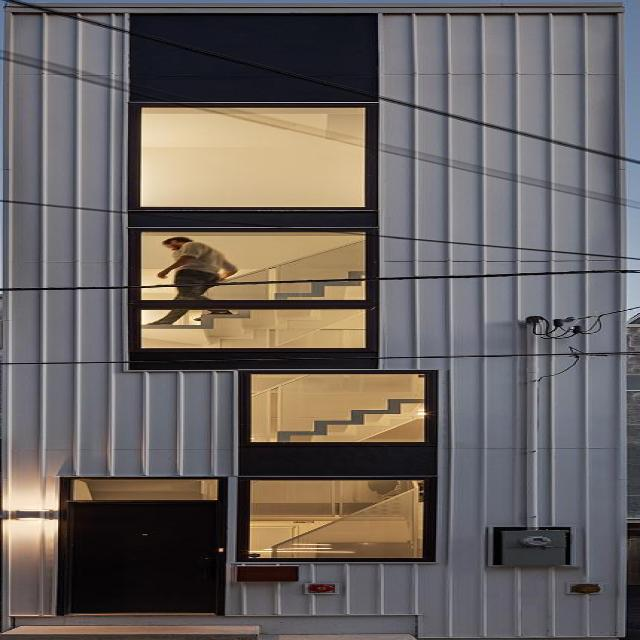door: (72, 498, 214, 613)
window: (145, 230, 367, 347), (129, 104, 364, 203), (244, 475, 420, 556), (245, 370, 418, 440), (69, 477, 219, 495)
